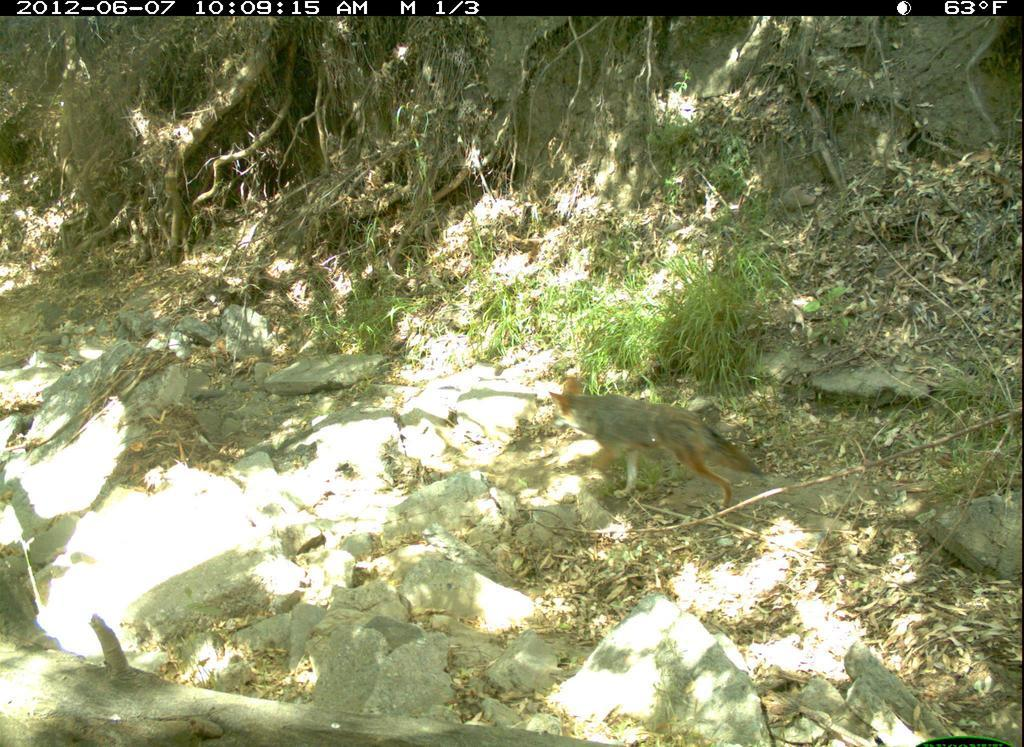coyote: (534, 354, 779, 534)
